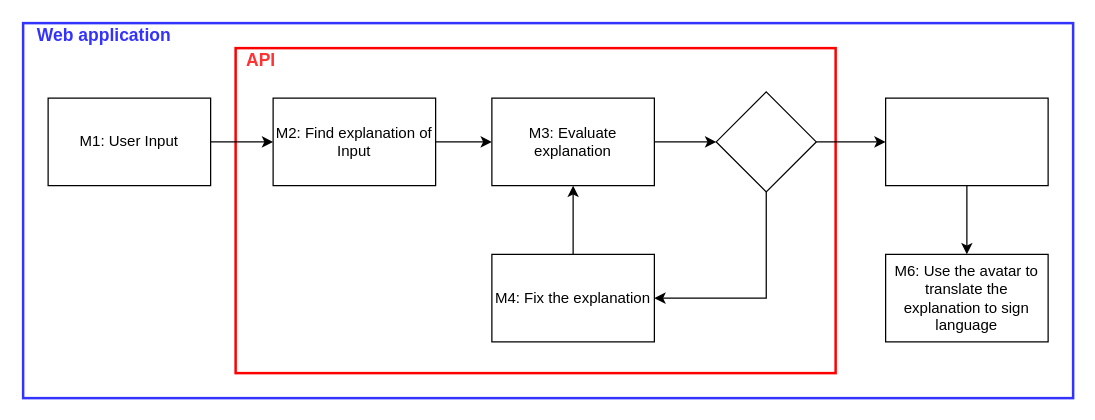
Some shapes in this 1095 by 420 pixel diagram are drawn without their labels. The shapes that lost their labels are listed below. From the top down, each one's centre as x and y in pixels, then its label:
point 765,141: OR
point 966,141: M5: Present the explanation to the user
